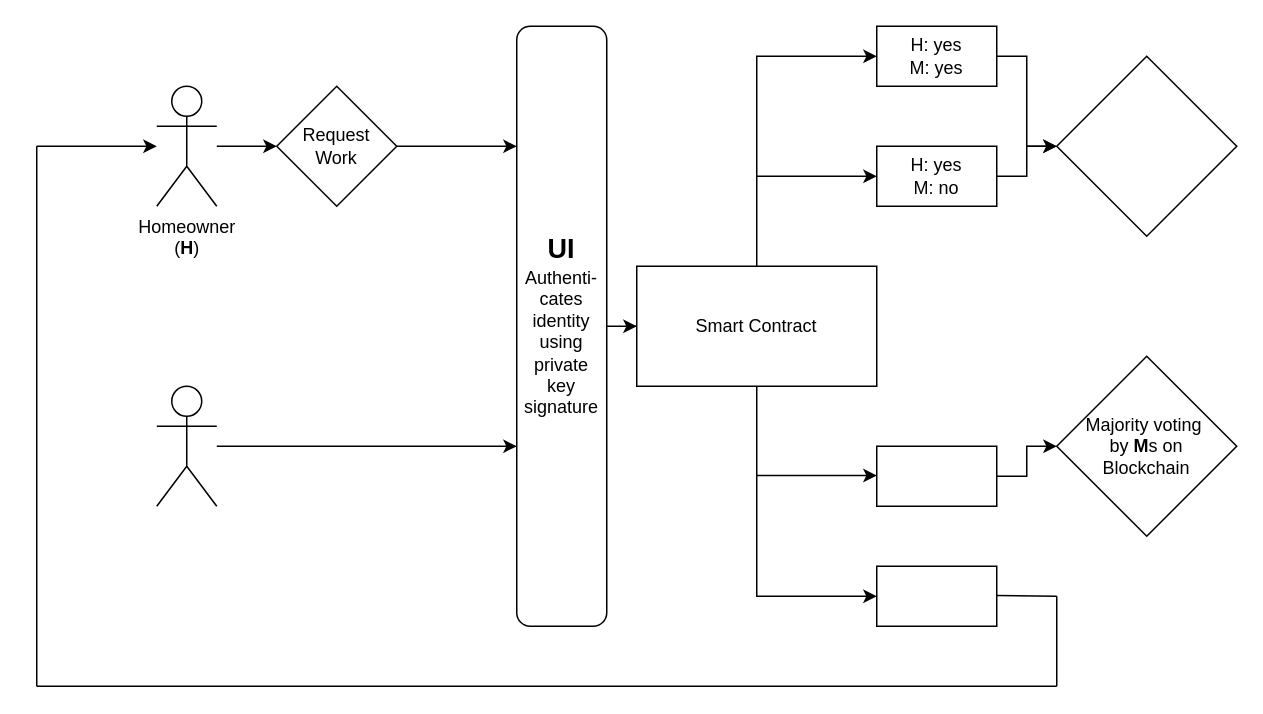
Some shapes in this 1263 by 714 pixel diagram are drawn without their labels. The centre of each missing label's shape, as x and y in pixels:
H: no M: no: point (936, 595)
H: no M: yes: point (936, 475)
Maintenance worker ( M ): point (186, 445)
Write to oracle and Blockchain: point (1146, 145)
